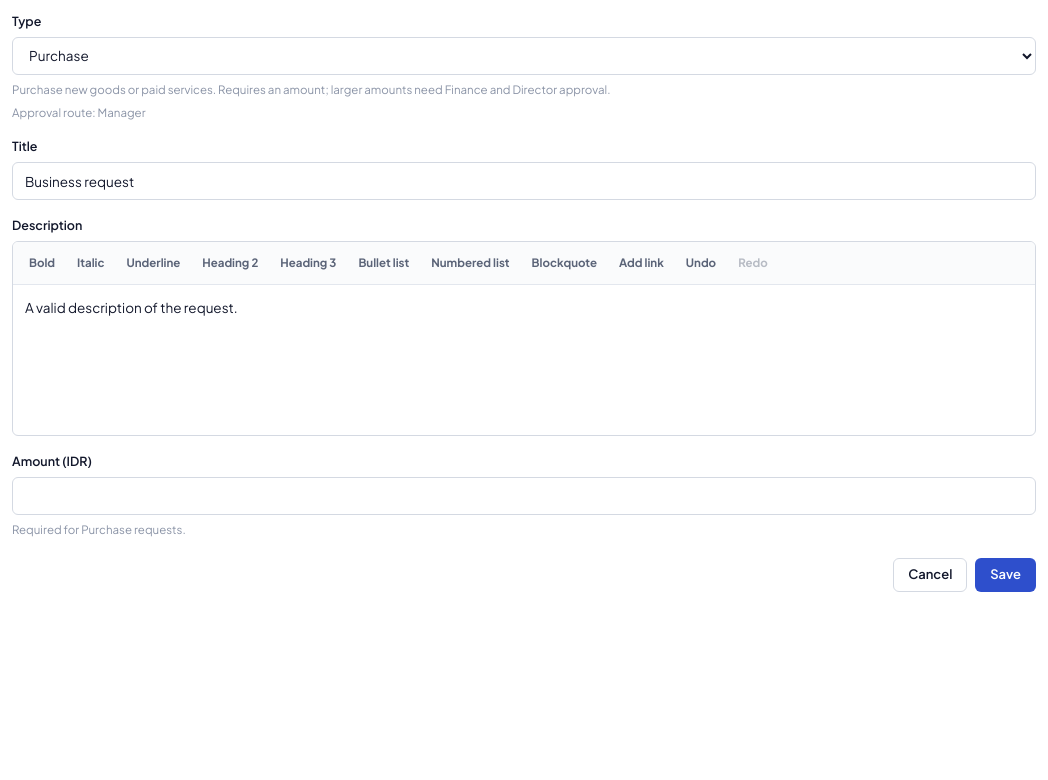
Test: type-specific amount validation (M3) › requires an amount for a Purchase
Click the button "Save": (1006, 575) x1=975 y1=558 x2=1036 y2=592
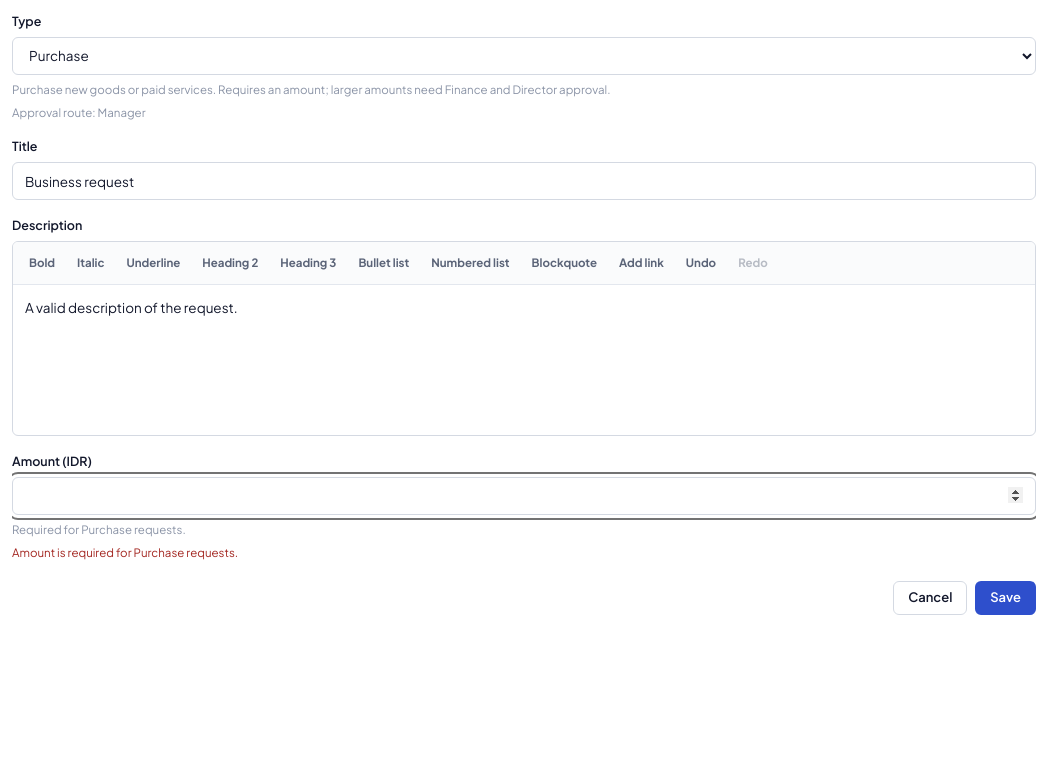
Expected: the text "Amount is required for Purchase requests." is shown, x1=12 y1=545 x2=238 y2=560
